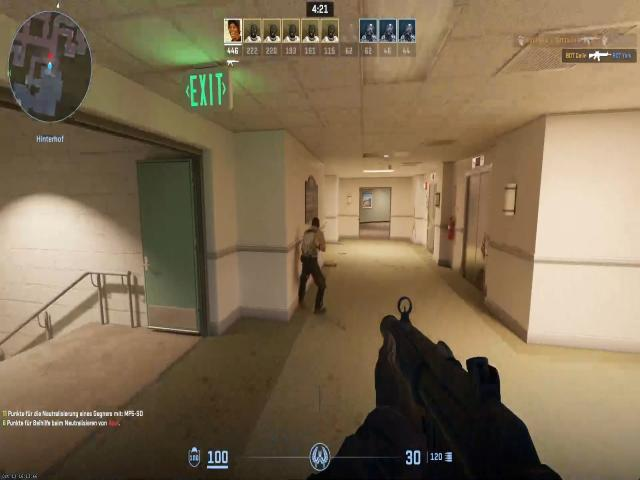T: (300, 212, 324, 262)
T-Head: (308, 216, 322, 235)
